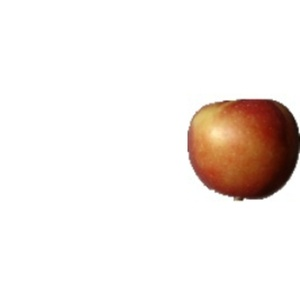maçã braeburn: (181, 98, 298, 202)
